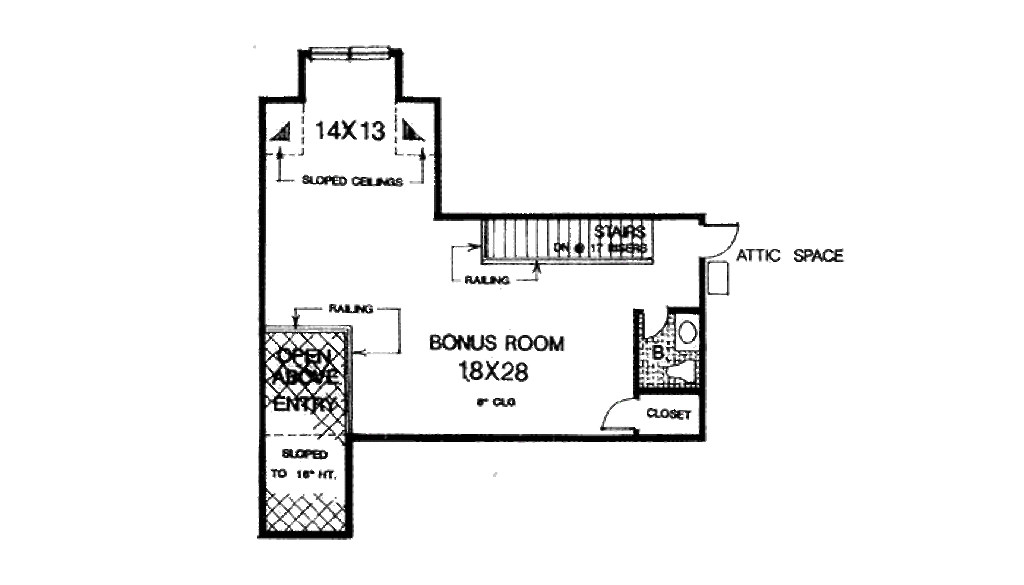door: (695, 222, 755, 259), (595, 396, 644, 433), (639, 304, 676, 341)
large_sink: (665, 360, 705, 386)
small_sink: (673, 311, 706, 350)
stairs: (473, 215, 668, 275)
window: (298, 46, 397, 61)
